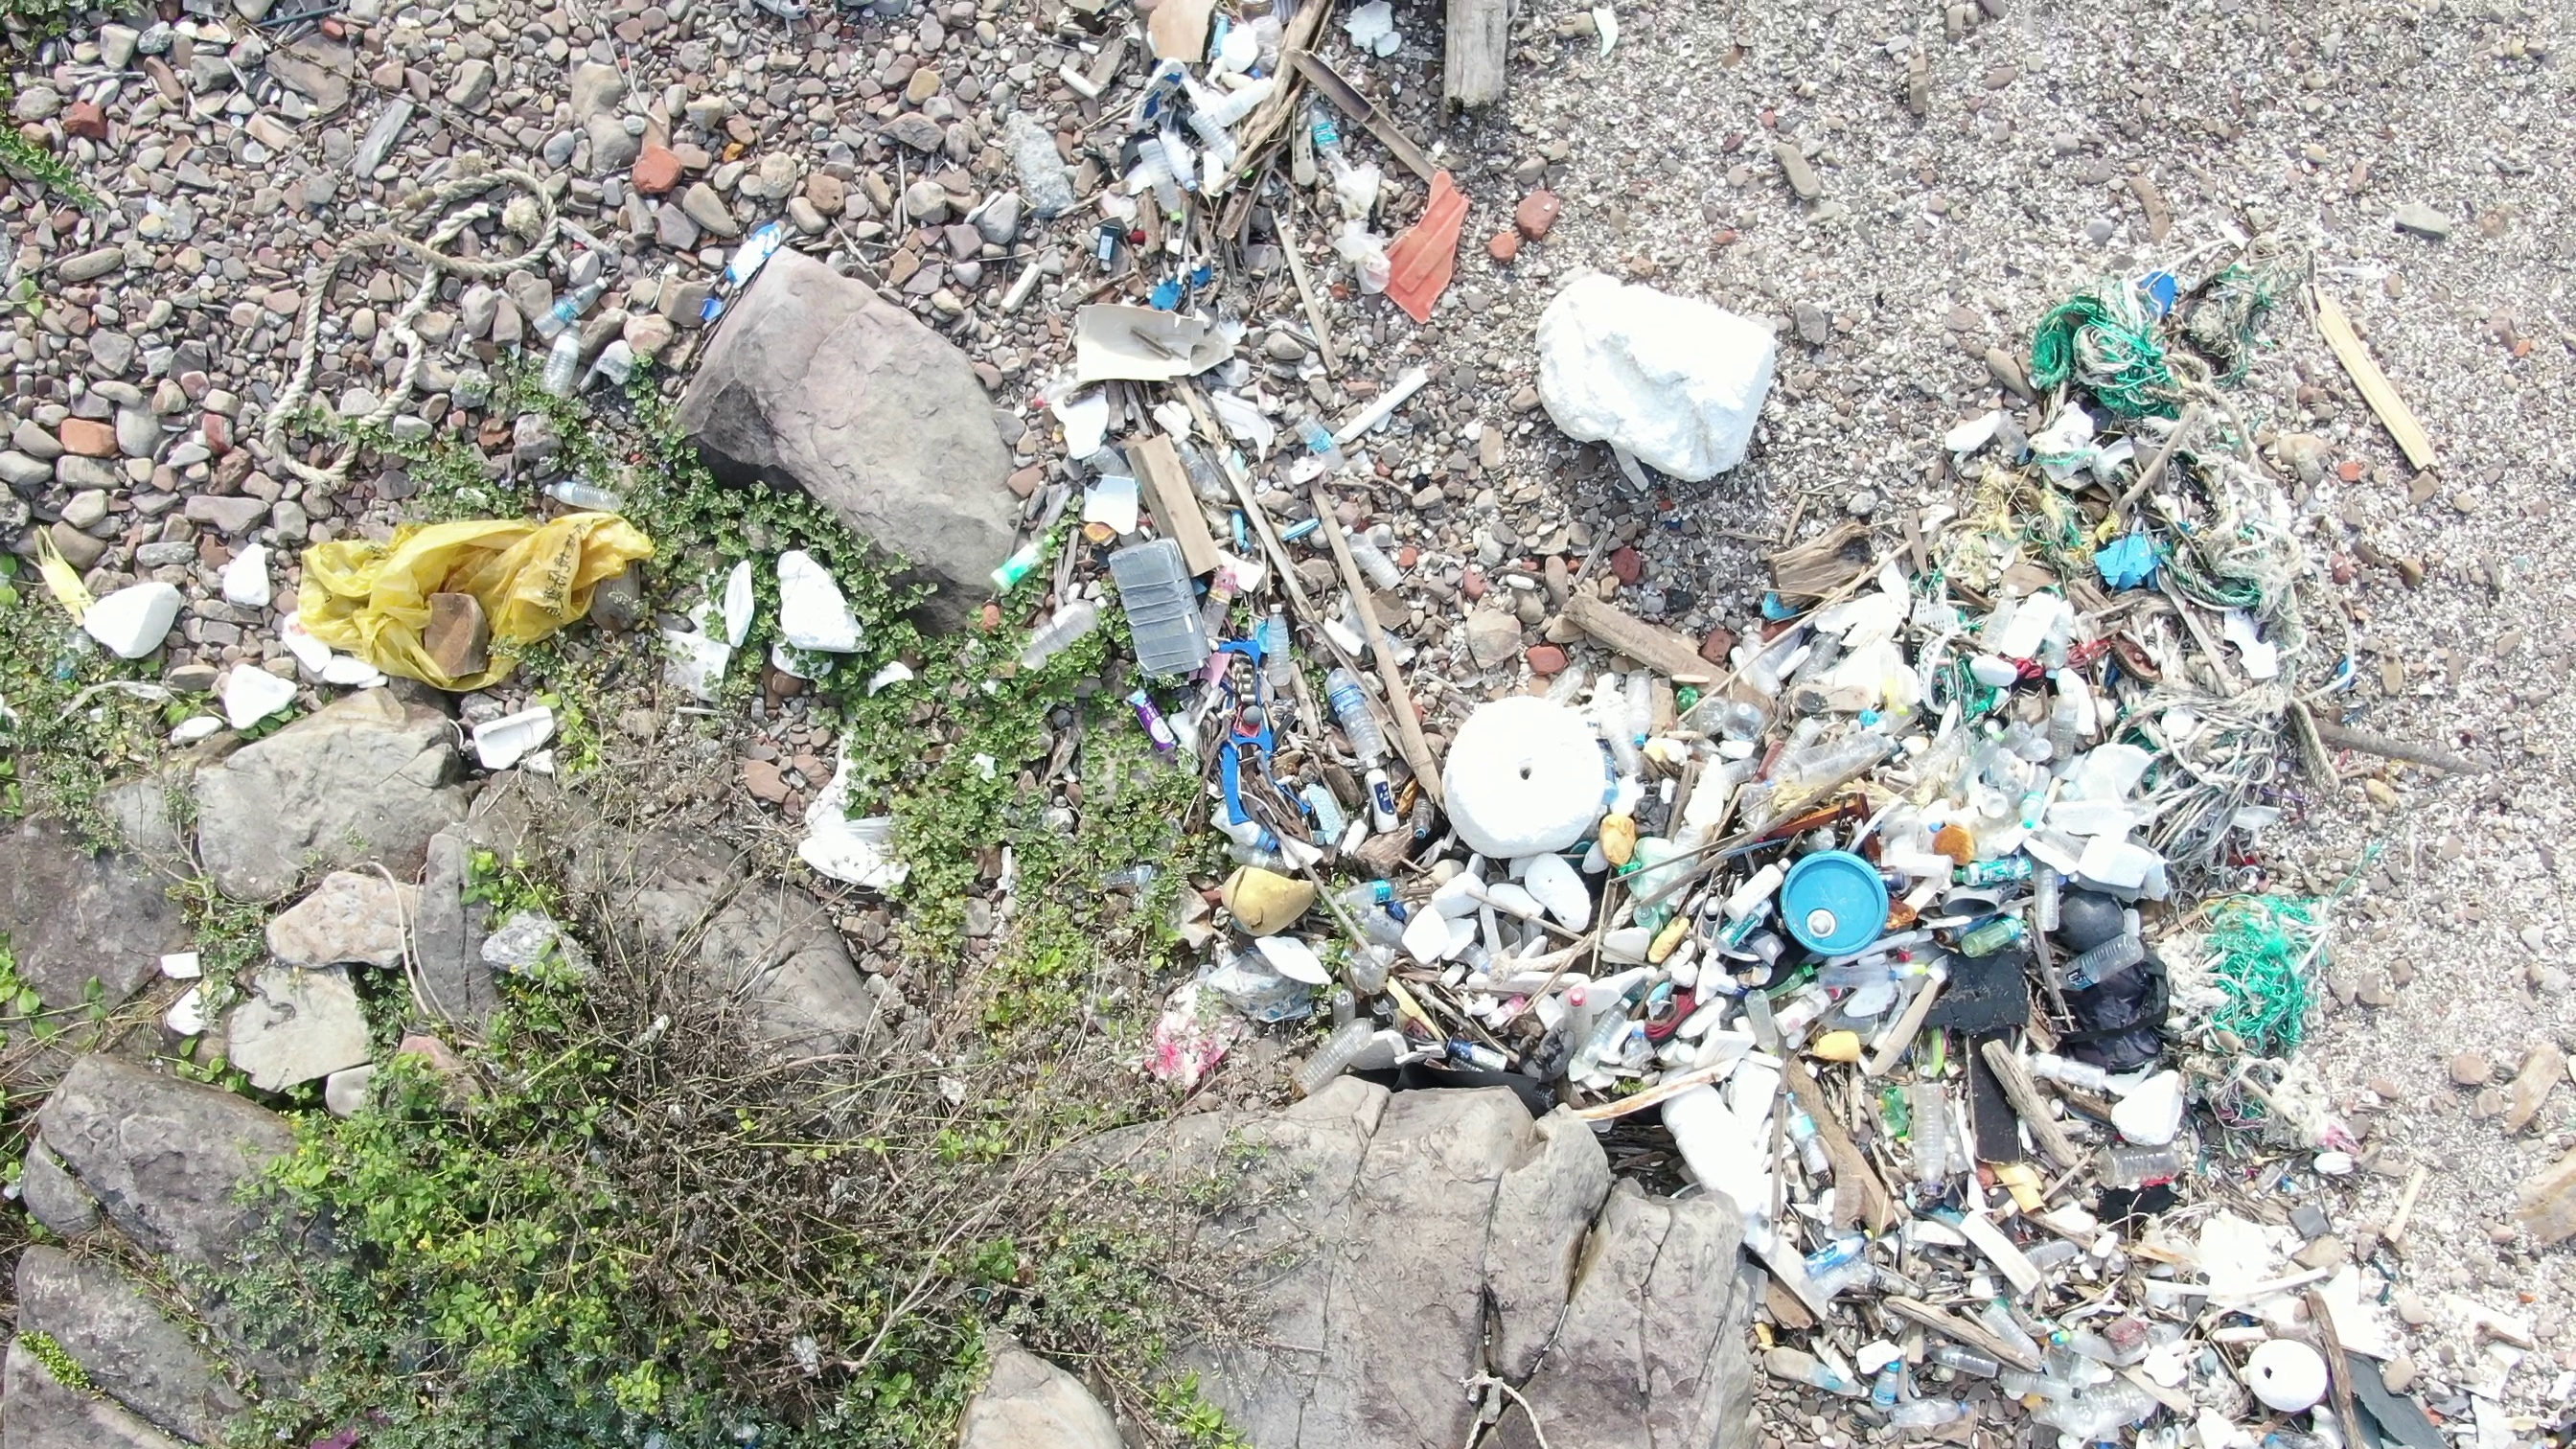bottle: (1292, 998, 1401, 1102), (1014, 589, 1122, 678), (1318, 651, 1394, 766), (987, 513, 1072, 594), (522, 271, 614, 340), (1127, 679, 1194, 766), (1258, 586, 1307, 701), (1729, 844, 1798, 925), (1300, 78, 1359, 168), (1955, 906, 2036, 970), (2066, 934, 2151, 994), (1281, 403, 1355, 469), (1366, 745, 1415, 840), (538, 467, 630, 518), (1943, 853, 2049, 897), (1867, 1341, 1914, 1428), (531, 327, 582, 407), (1622, 651, 1660, 761), (1920, 1330, 2008, 1376), (1212, 830, 1293, 878), (1744, 982, 1790, 1062), (1562, 987, 1599, 1067), (1803, 1231, 1870, 1272), (1622, 902, 1658, 929), (1672, 686, 1700, 715)
garbage: (1571, 234, 2479, 1449), (989, 19, 1594, 1072), (253, 143, 559, 495), (280, 495, 640, 697), (801, 702, 948, 918)
